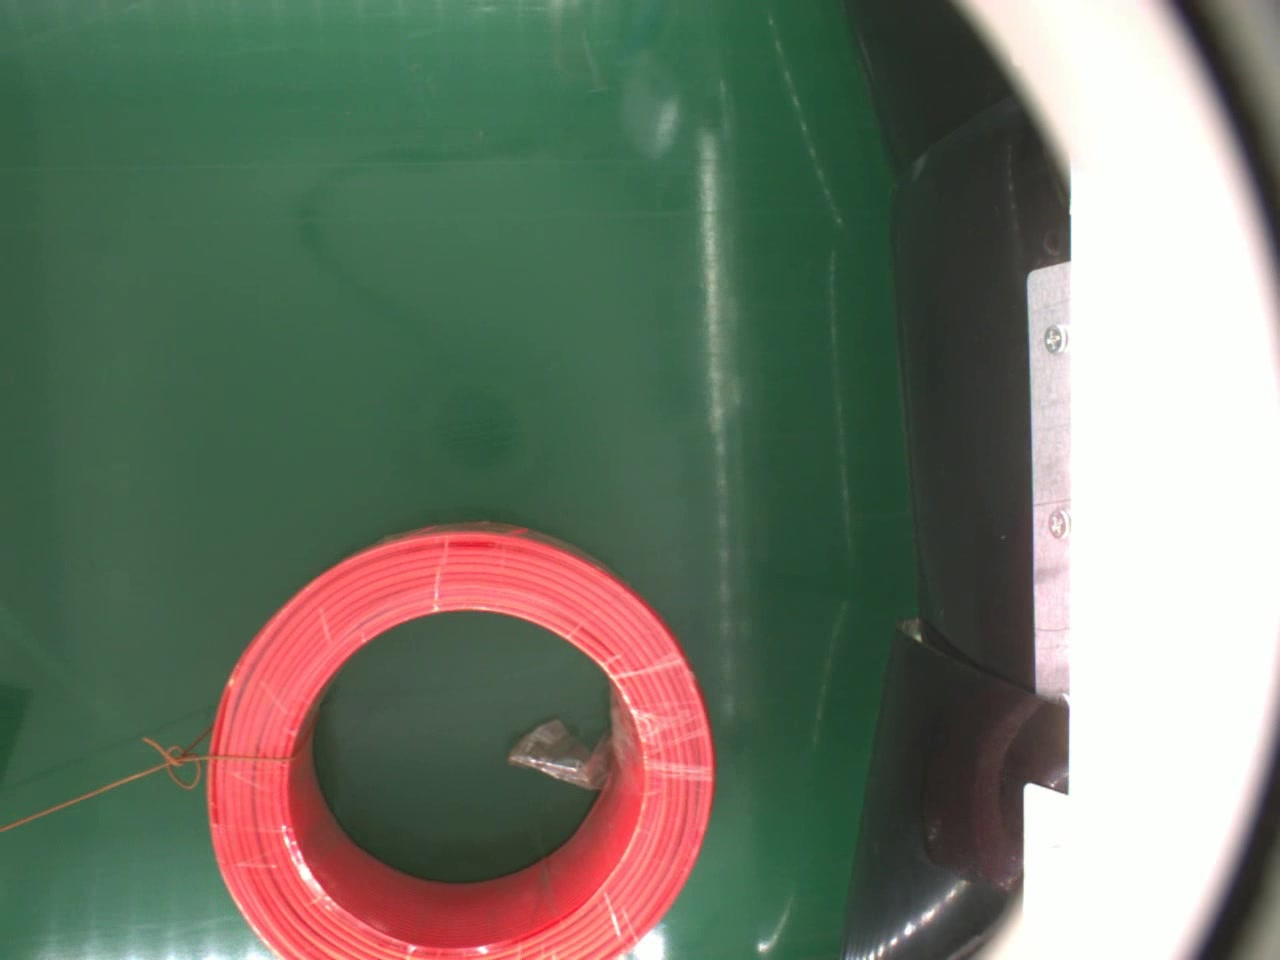red: (207, 517, 739, 960)
